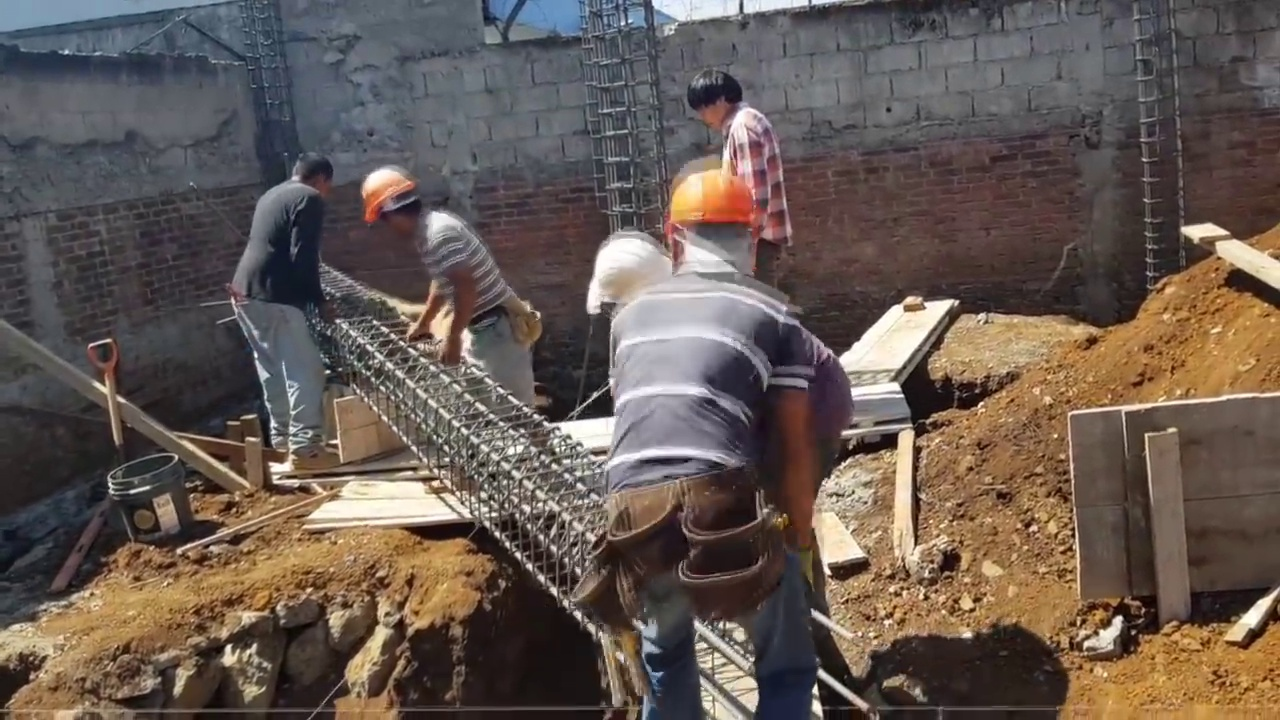helmet: (589, 234, 672, 307), (356, 173, 408, 231)
helmet-off: (688, 67, 745, 135), (286, 152, 331, 195)
helmet-on: (359, 161, 426, 247)
person: (595, 235, 859, 716), (357, 165, 532, 404), (226, 145, 333, 447), (664, 62, 792, 285)
